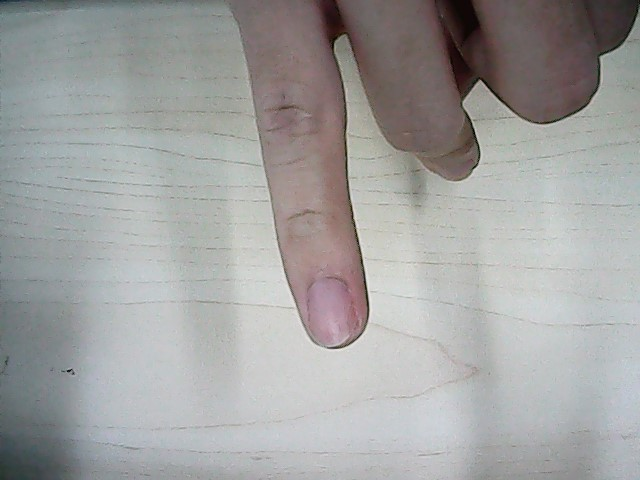nail: (306, 279, 359, 347)
